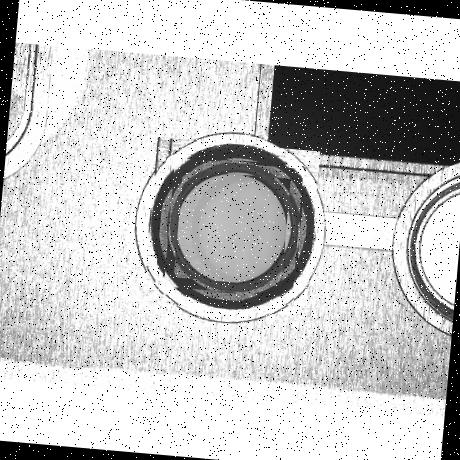Hole: (142, 138, 321, 316)
Hole2: (154, 154, 306, 306)
Hole3: (162, 158, 304, 299)
Hole4: (174, 170, 290, 286)
